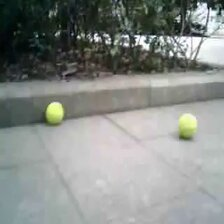tennis: (179, 114, 197, 137), (46, 102, 63, 124)
